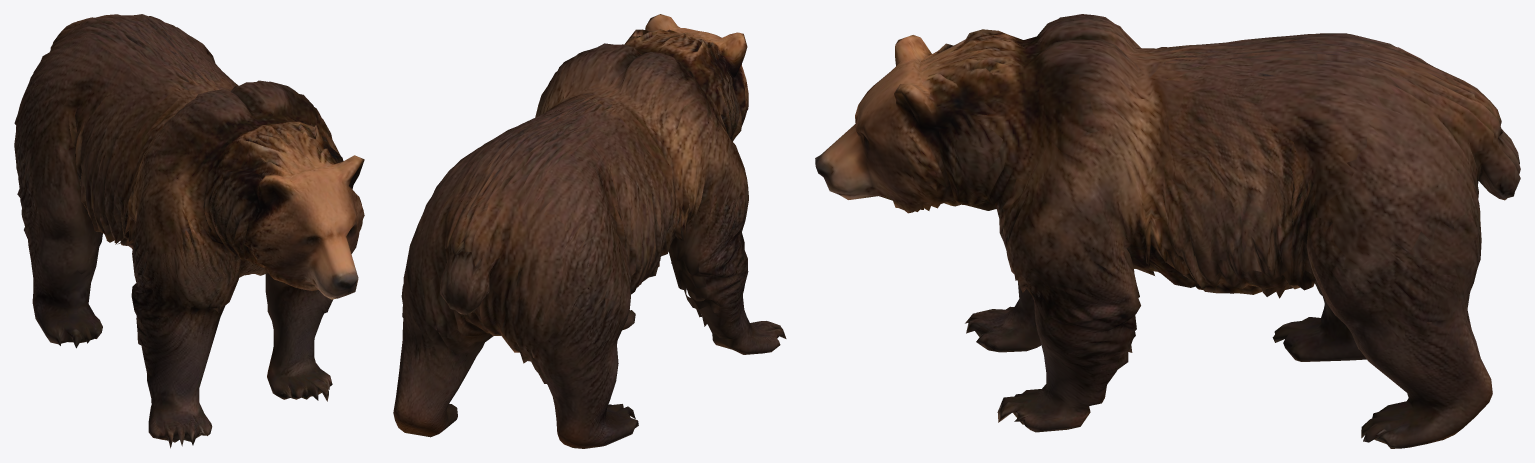
File: kuma.glb
The picture shows the model from 3 angles, left to right: view 1: azimuth 30°, elevation 25°; view 2: azimuth 150°, elevation 25°; view 3: azimuth 270°, elevation 25°; orthographic projection. The views are drawn at different scales.
Parts seen in each view (by area): view 1: tripo_node_b26d6e2e-0caf-4eb8-a773-975629e3e1d9; view 2: tripo_node_b26d6e2e-0caf-4eb8-a773-975629e3e1d9; view 3: tripo_node_b26d6e2e-0caf-4eb8-a773-975629e3e1d9.
Part boxes in pixels (bbox=[...]): tripo_node_b26d6e2e-0caf-4eb8-a773-975629e3e1d9: bbox=[14, 14, 364, 448]; tripo_node_b26d6e2e-0caf-4eb8-a773-975629e3e1d9: bbox=[393, 14, 786, 448]; tripo_node_b26d6e2e-0caf-4eb8-a773-975629e3e1d9: bbox=[815, 14, 1520, 448].
Size of the model in its own units: 0.4366 by 0.5647 by 1.
Materials: 1 (1 with a texture image).
